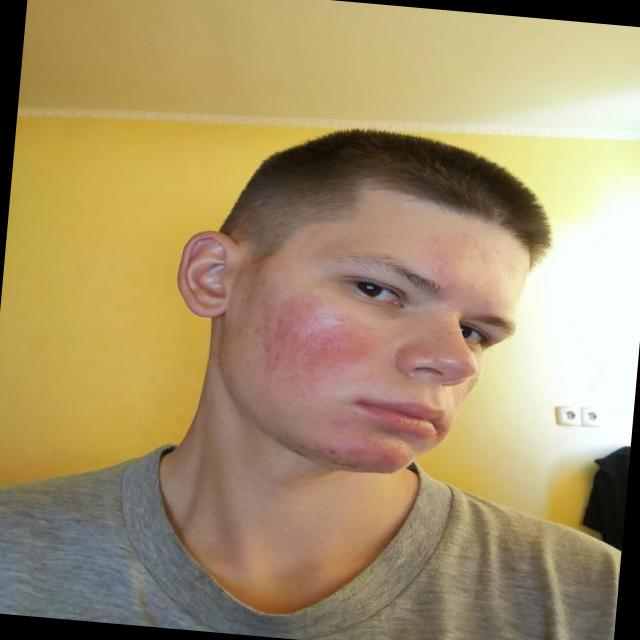redness: (253, 297, 376, 389), (325, 438, 409, 470)
